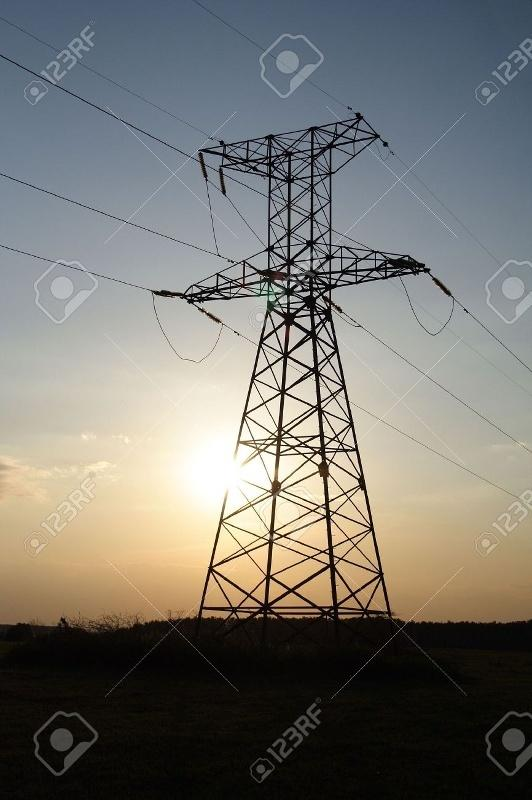power_tower: (180, 116, 414, 621)
